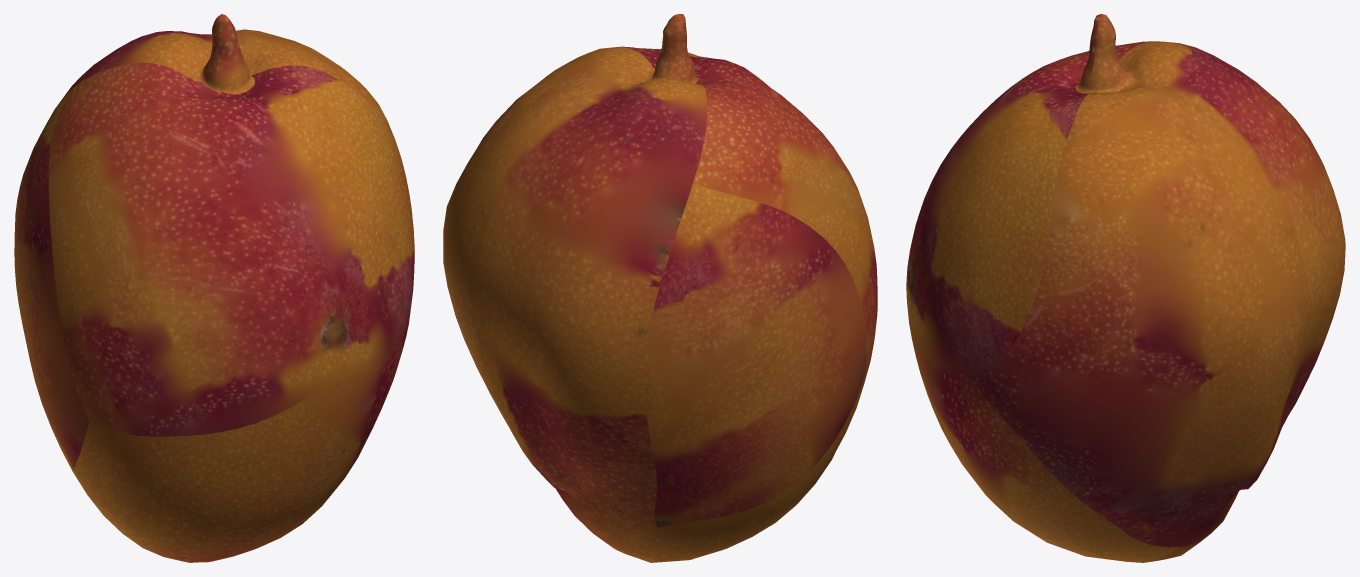
The picture shows the model from 3 angles, left to right: view 1: azimuth 30°, elevation 25°; view 2: azimuth 150°, elevation 25°; view 3: azimuth 270°, elevation 25°; orthographic projection. The views are drawn at different scales.
Bounding box in the file's own units: 0.6975 × 1 × 0.7315.
